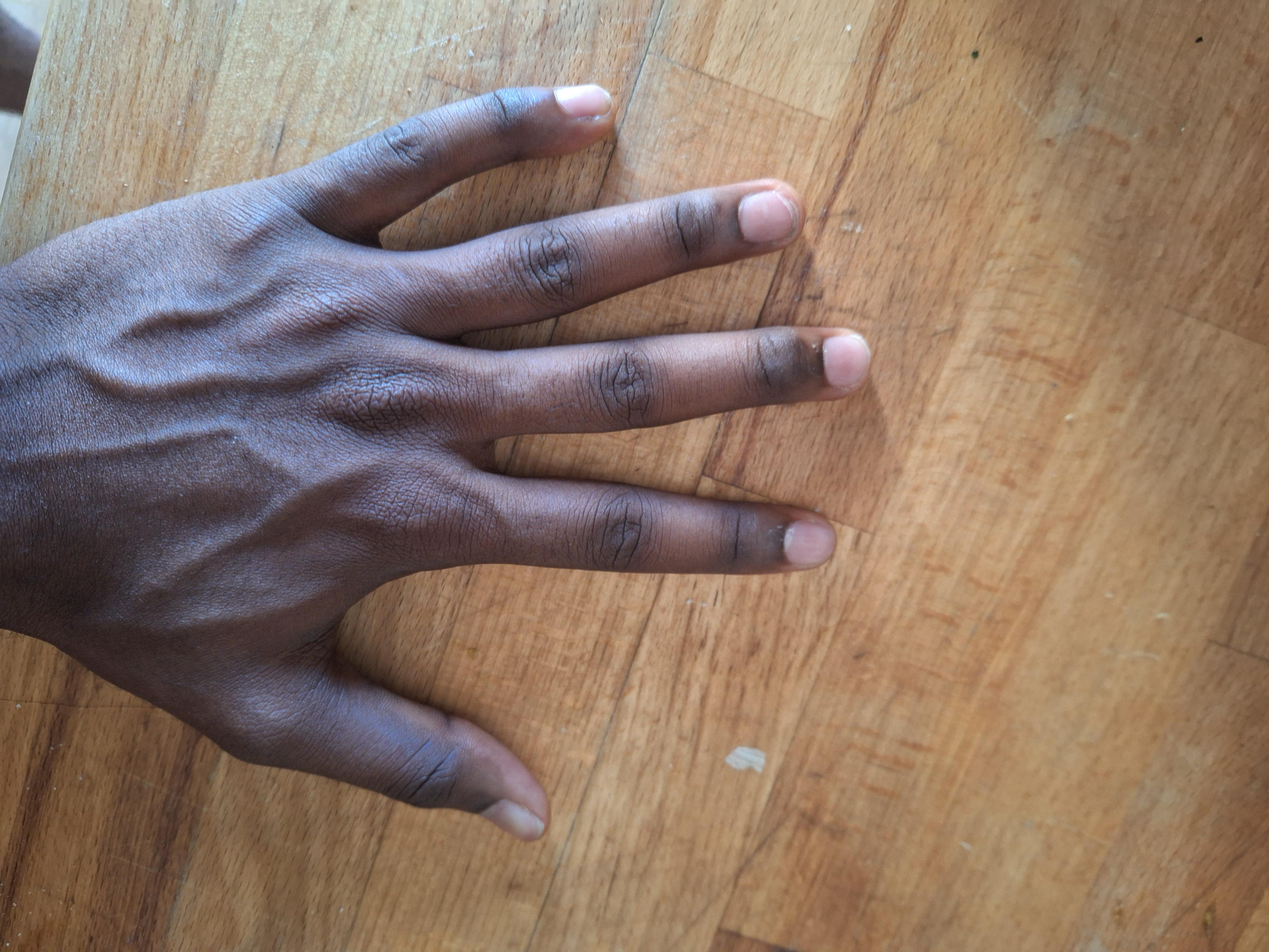Fingernail: (741, 191, 800, 243), (479, 799, 545, 844), (783, 521, 835, 569), (824, 334, 871, 387), (556, 85, 611, 118)
